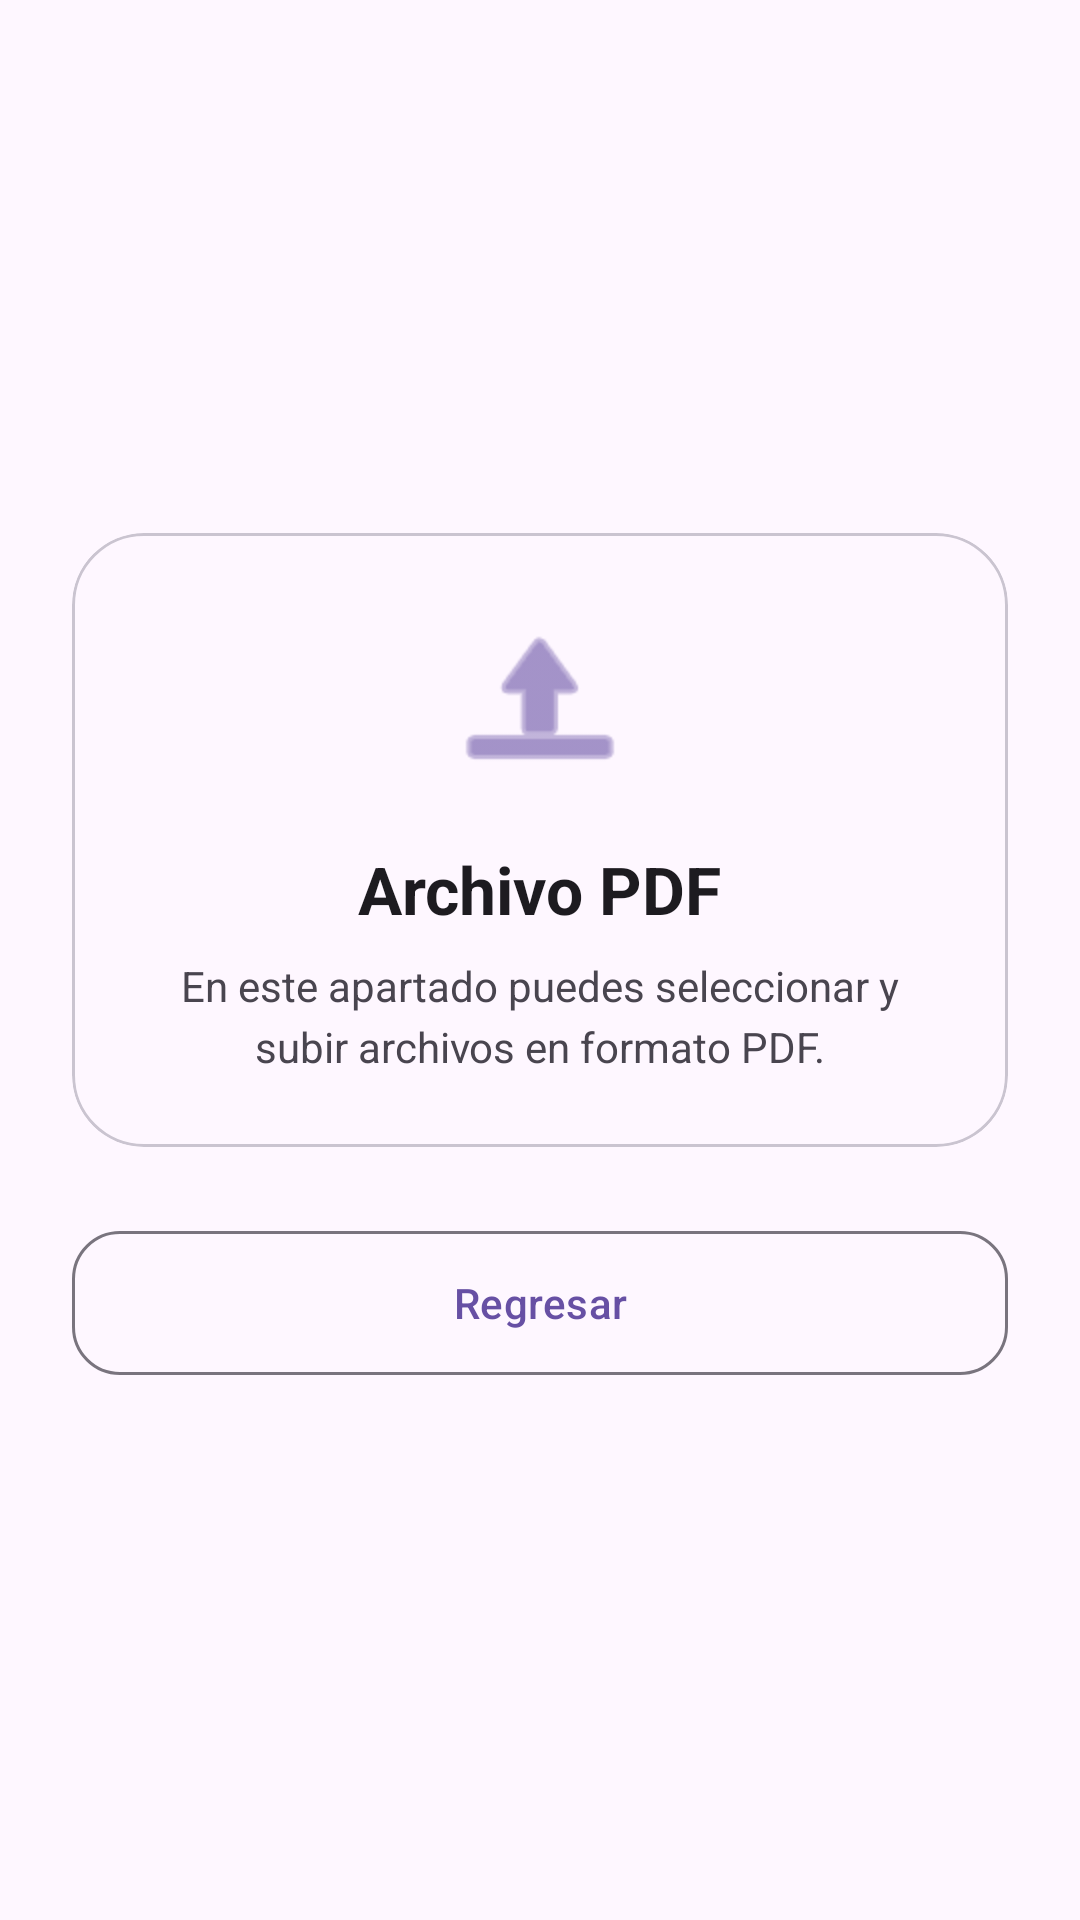

Locate icon controls on the screen. Image size 1080x1920, boxes as (x1, y1, x2, y2).
upload: (466, 637, 614, 759)
